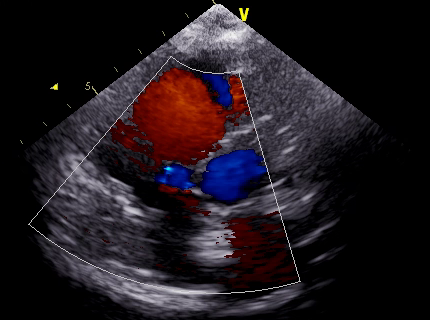TR: (144, 147, 209, 203)
